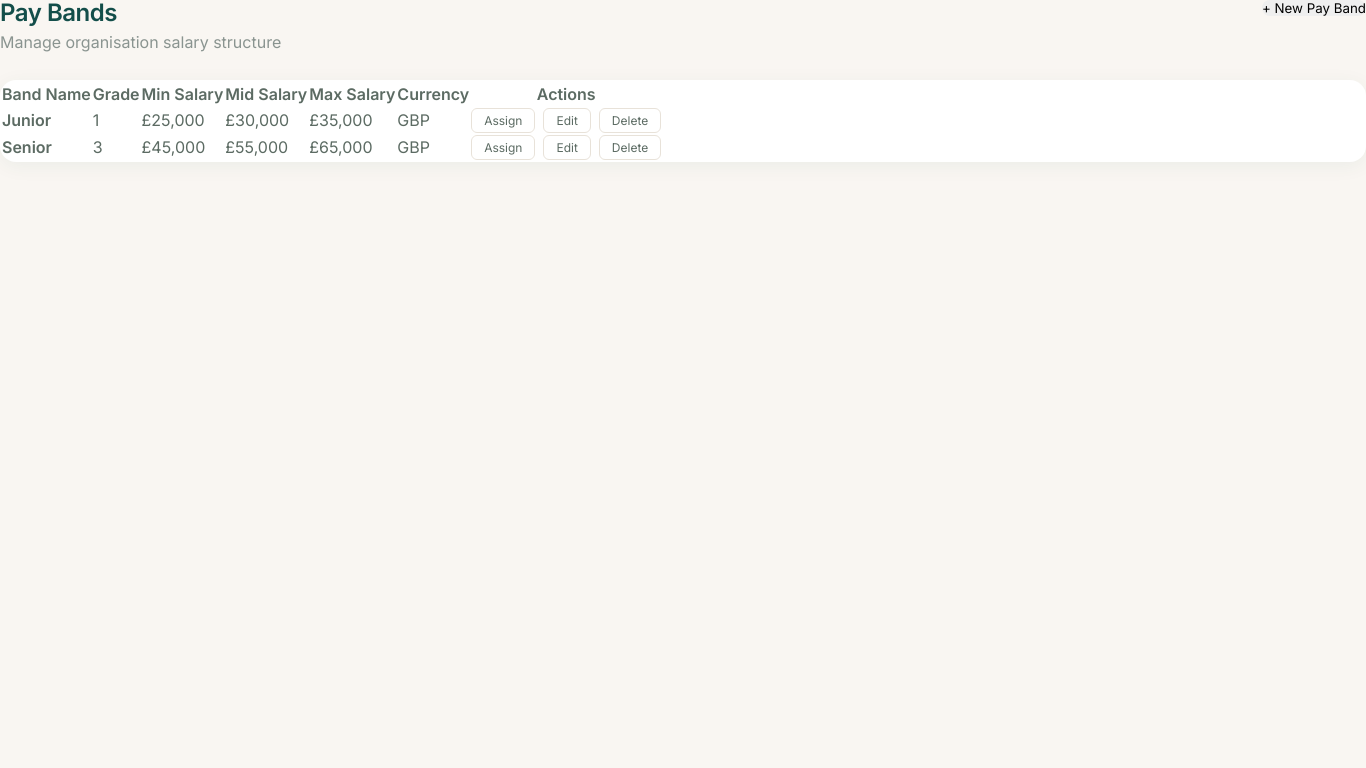
Test: PayBandManager › opens create modal when New Pay Band button clicked
Step 1. Click the button "+ New Pay Band" → [1314, 8], box [1262,0,1365,16]
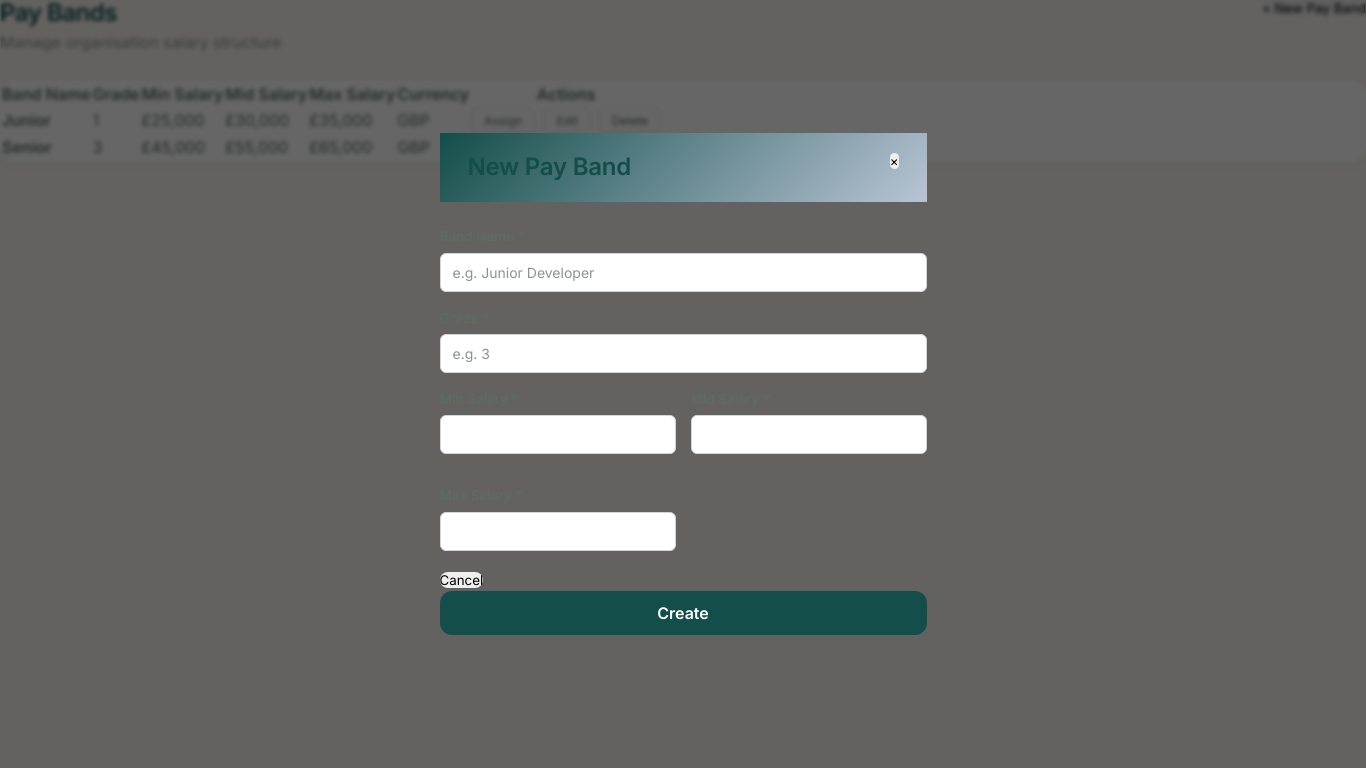
Expected: the heading "New Pay Band" is shown, [468,153,631,182]
Expected: the field labelled "Band Name *" is shown, [440,252,926,292]
